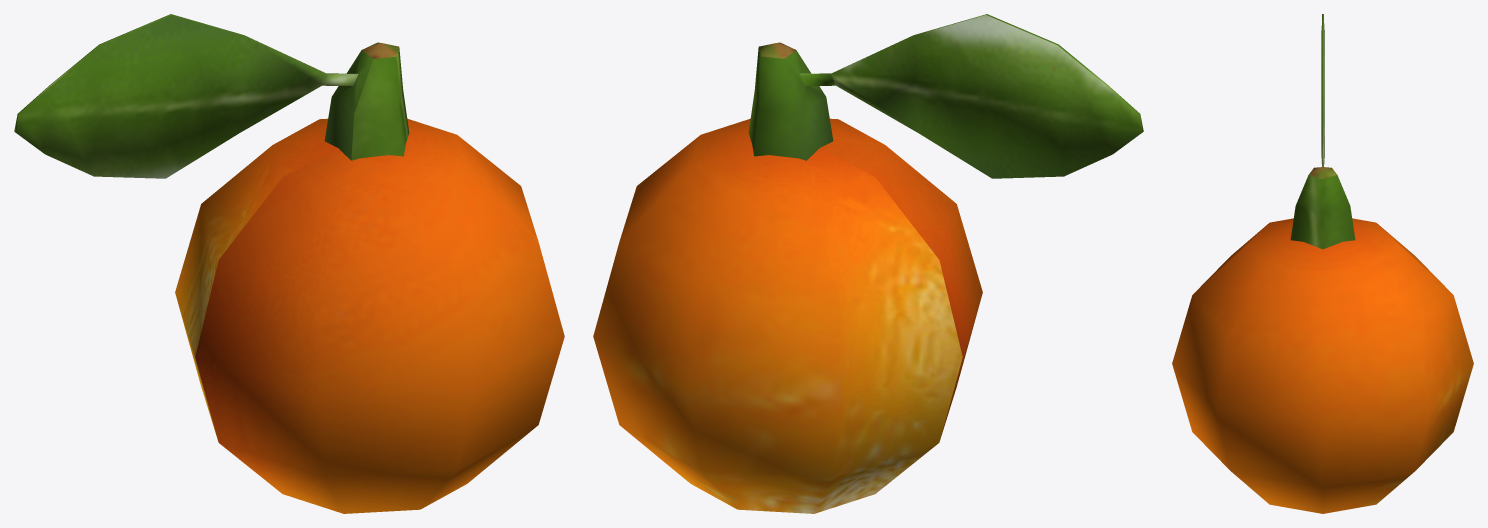
File: orange.fbx
The picture shows the model from 3 angles, left to right: view 1: azimuth 30°, elevation 25°; view 2: azimuth 150°, elevation 25°; view 3: azimuth 270°, elevation 25°; orthographic projection. The views are drawn at different scales.
Parts seen in each view (by area): view 1: Icosphere; view 2: Icosphere; view 3: Icosphere.
Boxes of the visible parts, x1,y1,x2,y2 form: Icosphere: (14,14,564,513); Icosphere: (593,14,1143,513); Icosphere: (1172,14,1473,513).
Size of the model in its own units: 53.34 by 51.16 by 35.21.
